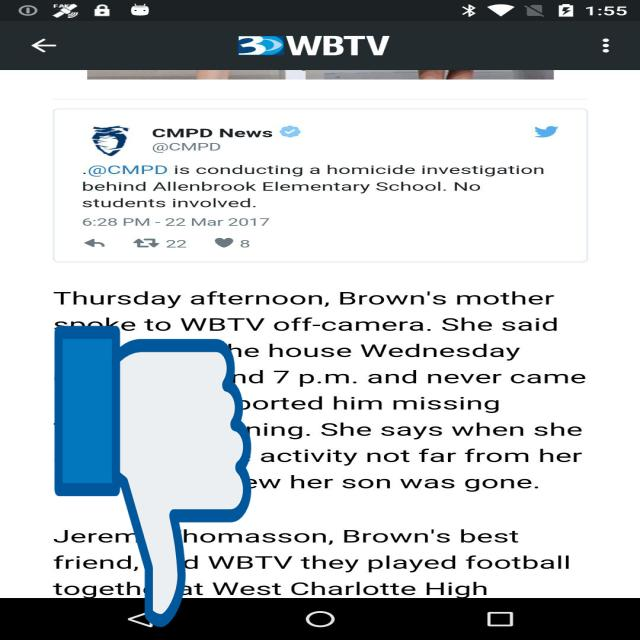obstruction: (55, 319, 251, 634)
